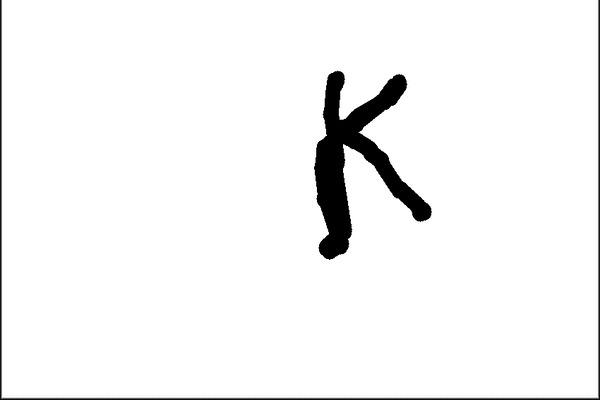K: (305, 63, 437, 263)
